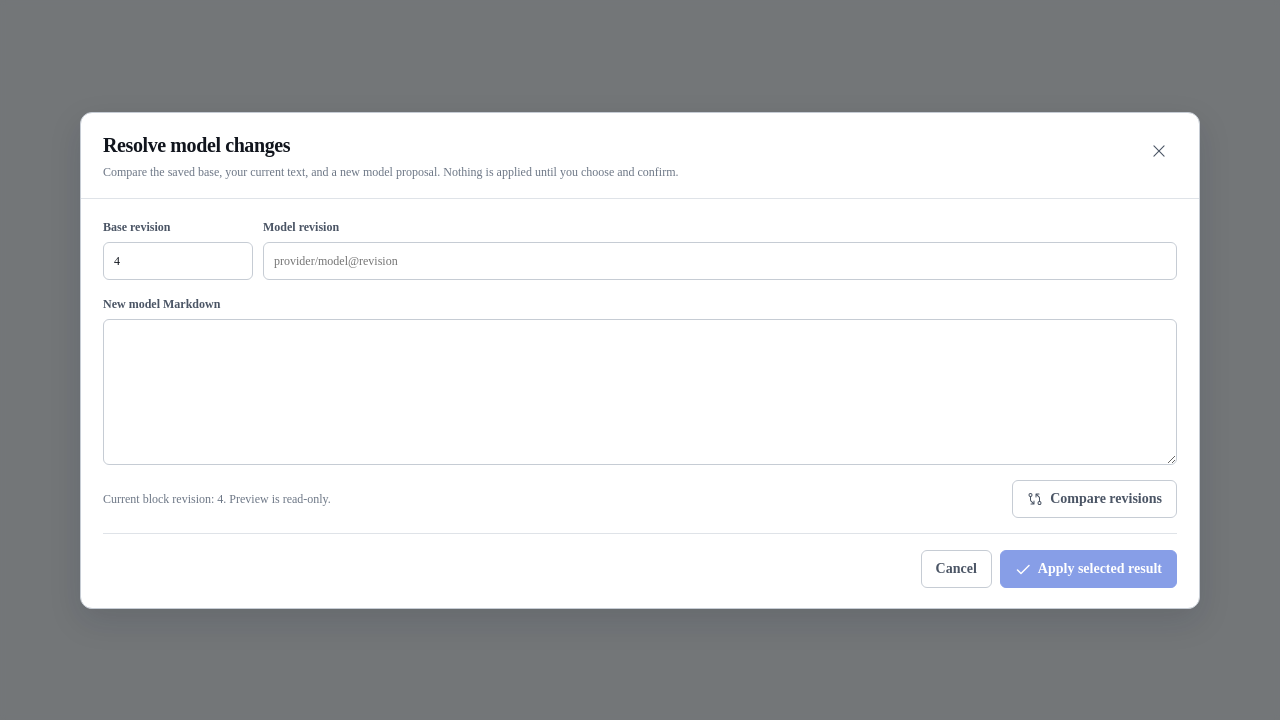
Test: ModelMergeDialog › reuses the idempotency key when an identical preview is retried
Replace the text in the number field labelled "Base revision" with "3" at (178, 260), box [103, 242, 253, 280]
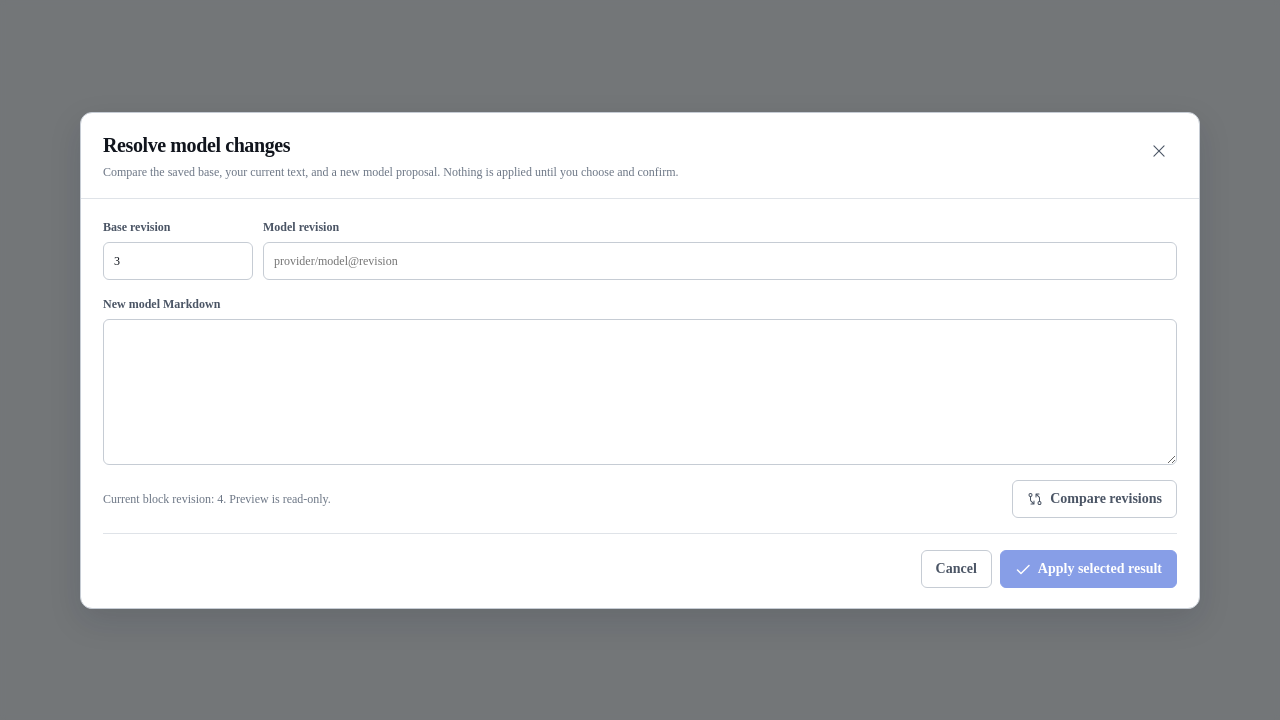
Type "model@2" into the field labelled "Model revision".
click(720, 260); type("model@2")  # box [263, 242, 1177, 280]
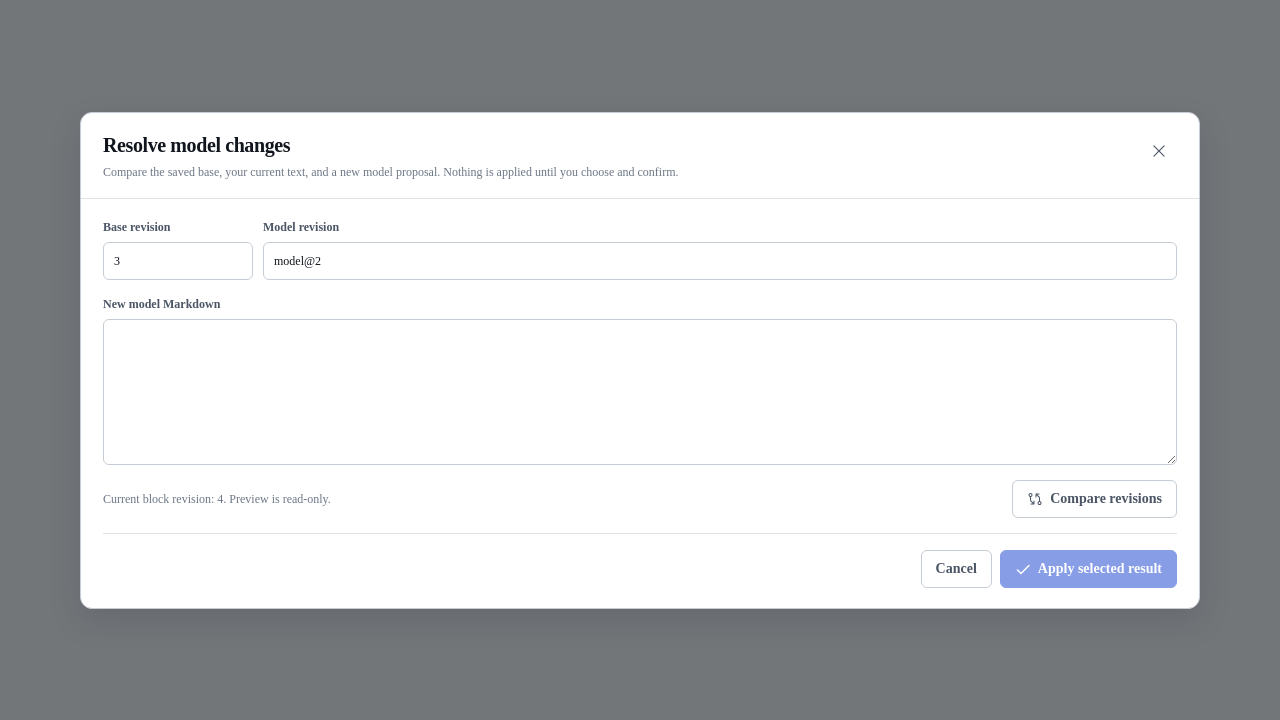
Type "Model version" into the text box labelled "New model Markdown".
click(640, 392); type("Model version")  # box [103, 318, 1177, 464]
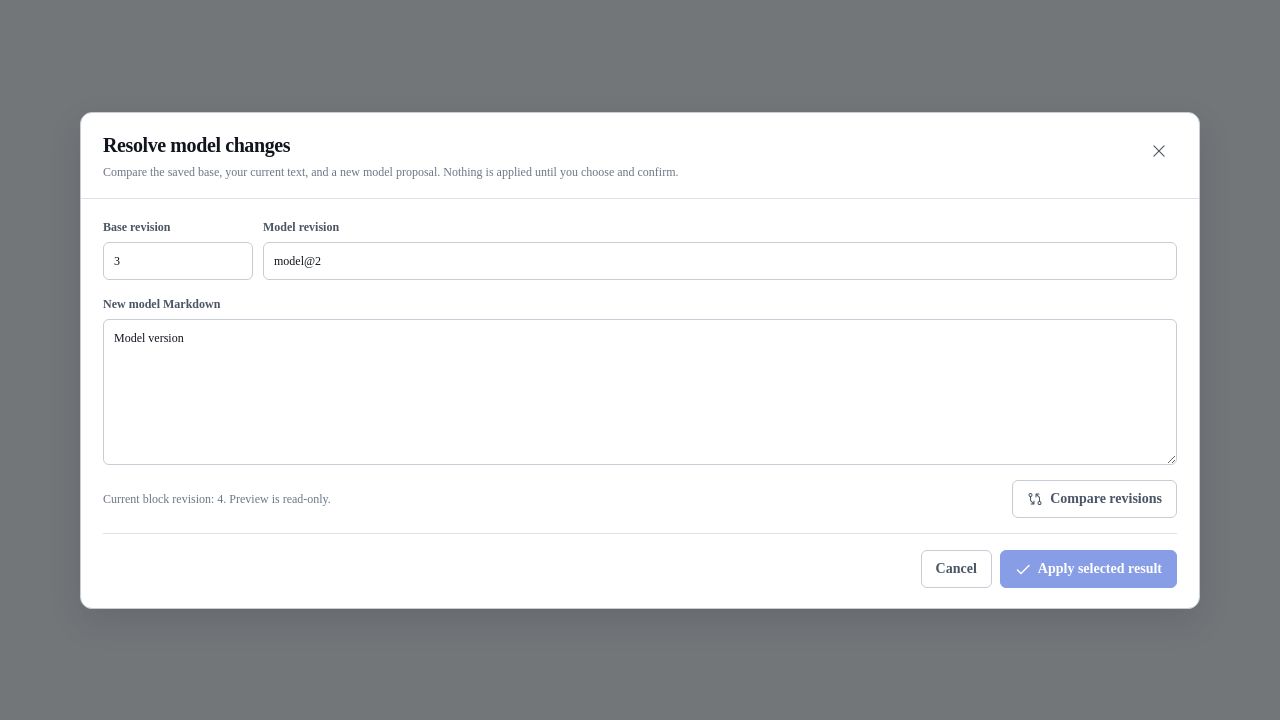
Click the button "Compare revisions".
click(1095, 498)  # box [1012, 480, 1177, 518]
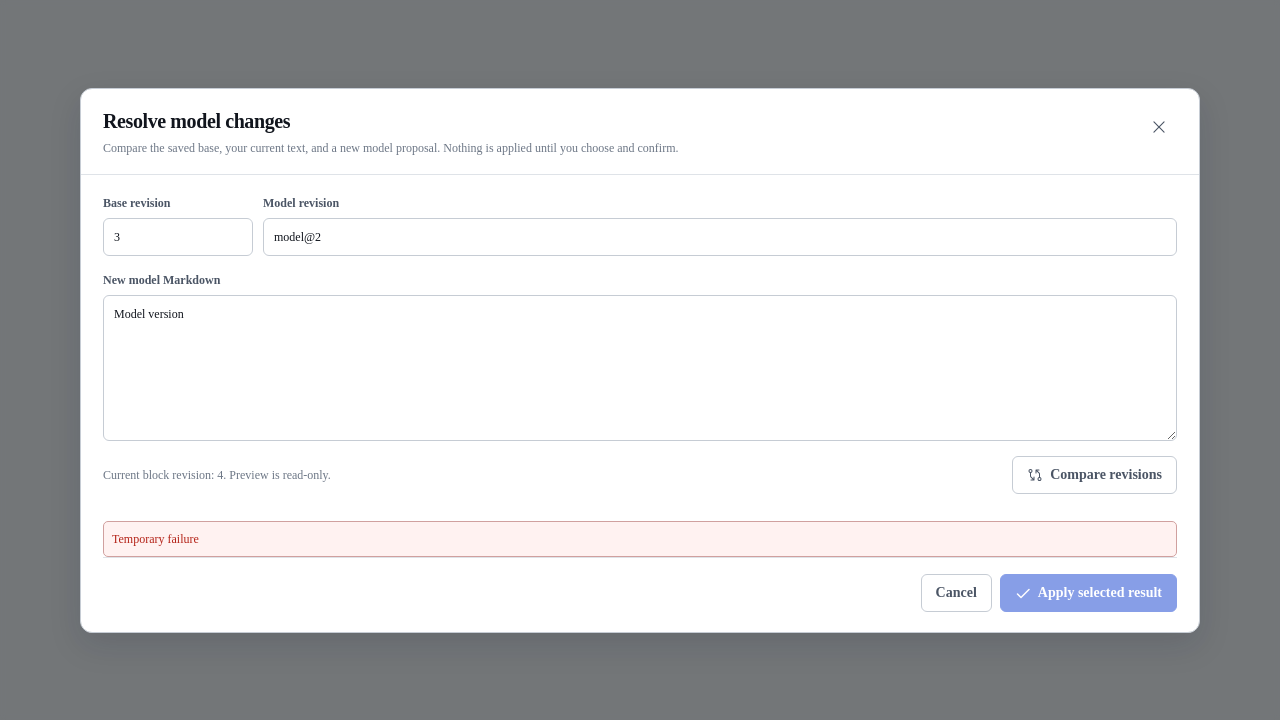
Result: the message reads "Temporary failure" at [112, 532, 199, 546]
Click the button "Compare revisions".
click(1095, 474)  # box [1012, 456, 1177, 494]
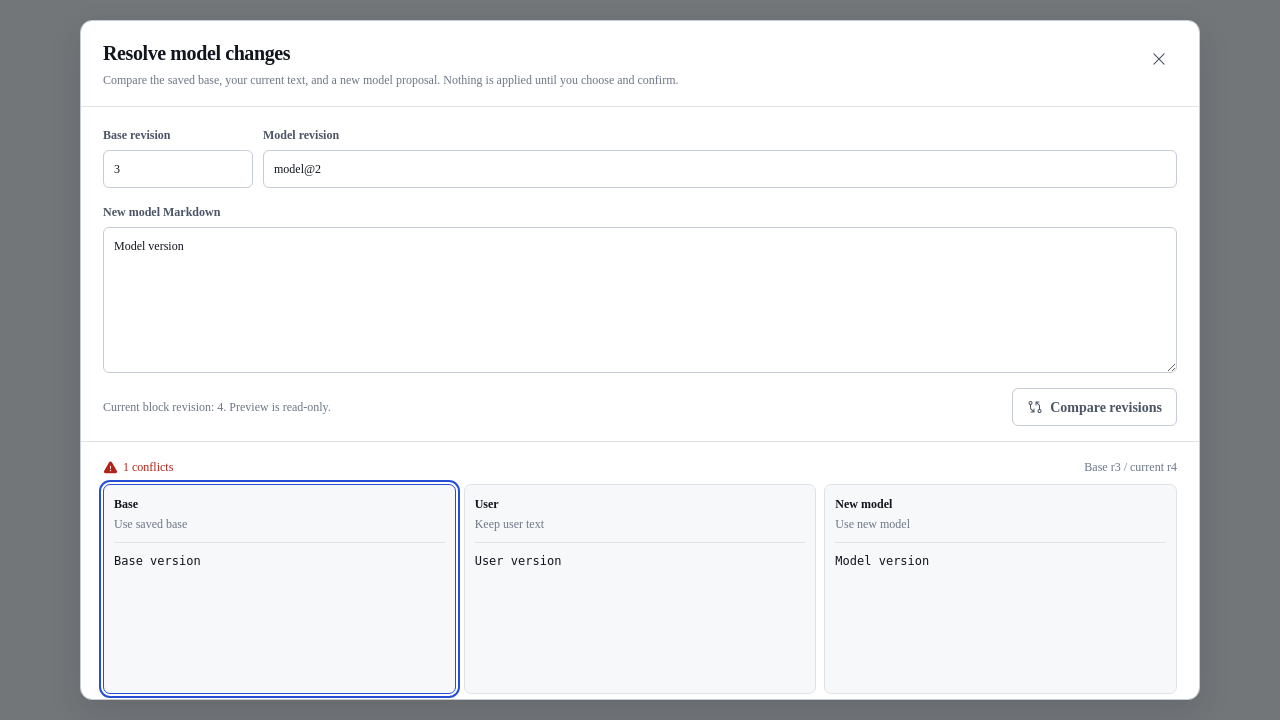
Result: the list is shown at [103, 484, 1177, 694]
